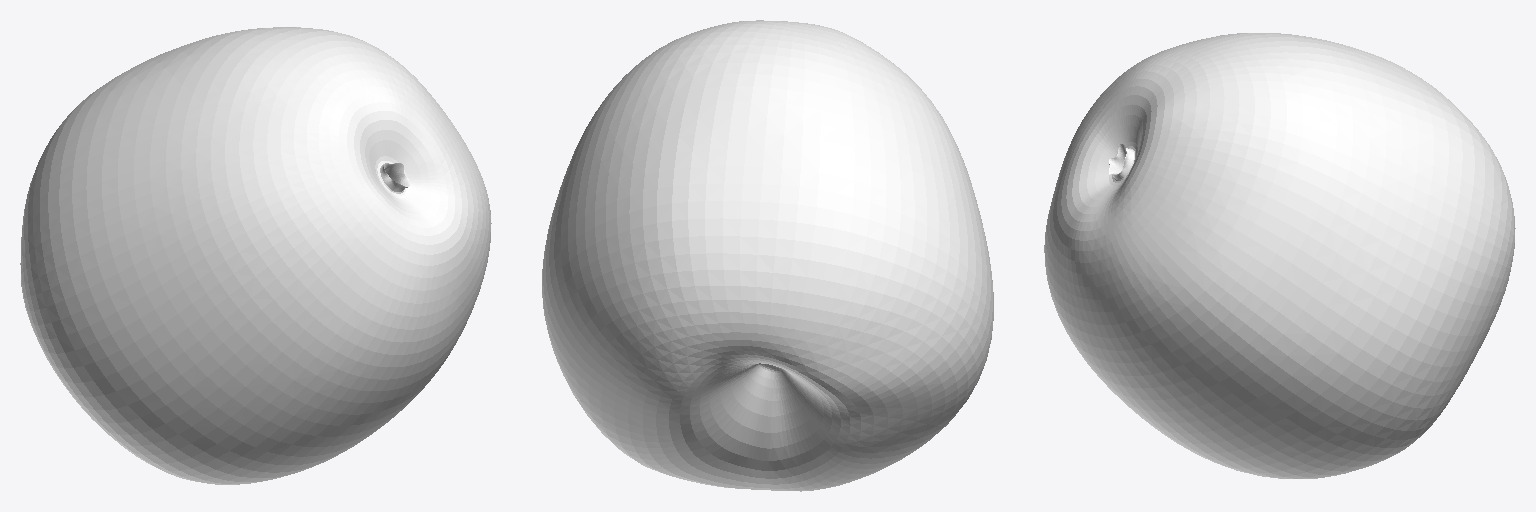
The robot description file, URDF, robot "apple.urdf":
<?xml version="1.0" ?>
<robot name="apple.urdf">
  <link name="apple_base_link">
    <contact>
      <rolling_friction value="0.01"/>
      <spinning_friction value="0.01"/>
    </contact>
    <inertial>
      <origin rpy="0 0 0" xyz="0 0 0"/>
       <mass value=".05"/>
       <inertia ixx="1" ixy="0" ixz="0" iyy="1" iyz="0" izz="1"/>
    </inertial>
    <visual>
      <origin rpy="0 0 90" xyz="0 0 0"/>
      <geometry>
        <mesh filename="single_apple.obj" scale=".01 .01 .01"/>
      </geometry>
      <material name="">
        <color rgba="1 1 1 1"/>
      </material>
    </visual>
    <collision>
      <origin rpy="0 0 90" xyz="0 0 0"/>
      <geometry>
        <mesh filename="single_apple.obj" scale=".01 .01 .01"/>
      </geometry>
    </collision>
  </link>
</robot>

--- What the picture shows (computed from the rendered views, not written in the file) ---
3 views of the same robot in one strip: view 1: azimuth 30°, elevation 25°; view 2: azimuth 150°, elevation 25°; view 3: azimuth 270°, elevation 25° (orthographic).
Robot: apple.urdf — 1 links, 0 joints (none); root link apple_base_link; default pose: all joints at 0.
Links seen in each view (by area): view 1: apple_base_link; view 2: apple_base_link; view 3: apple_base_link.
Link boxes in pixels (bbox=[...]): apple_base_link: bbox=[20, 27, 491, 484]; apple_base_link: bbox=[542, 20, 993, 491]; apple_base_link: bbox=[1044, 33, 1515, 478].
Bounding box of the posed robot: 0.077 × 0.078 × 0.076 m (x, y, z).
1 mesh visuals loaded from 1 distinct referenced files (1 OBJ).